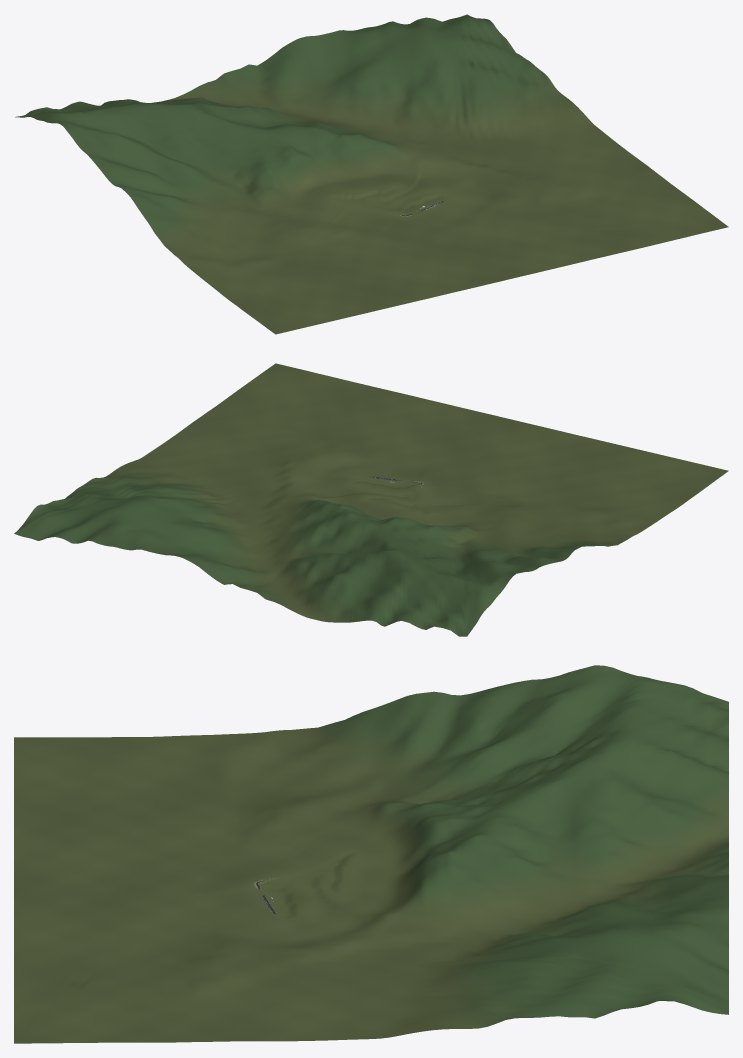
Rendered from red-bull-ring-slice.glb.
3 views of the same model, one above another, from view 1: azimuth 30°, elevation 25°; view 2: azimuth 150°, elevation 25°; view 3: azimuth 270°, elevation 25° (orthographic). The views are drawn at different scales.
Visible parts, largest first — view 1: REGIONAL_TERRAIN_LOD0; view 2: REGIONAL_TERRAIN_LOD0; view 3: REGIONAL_TERRAIN_LOD0.
Part boxes in pixels (x1,y1,x2,y2): REGIONAL_TERRAIN_LOD0: (15, 14, 728, 334); REGIONAL_TERRAIN_LOD0: (14, 363, 728, 636); REGIONAL_TERRAIN_LOD0: (14, 665, 728, 1043).
Size of the model in its own units: 5980 by 704 by 5980.
12 materials, 4 textured.
